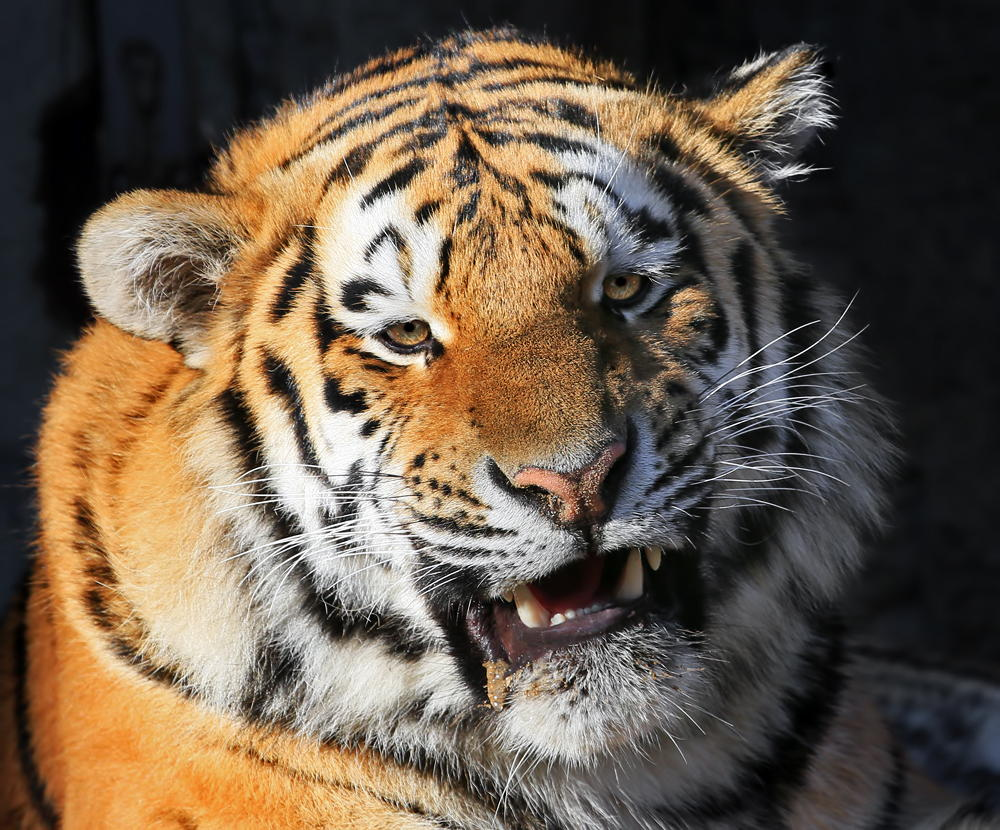tiger: (73, 49, 917, 762)
